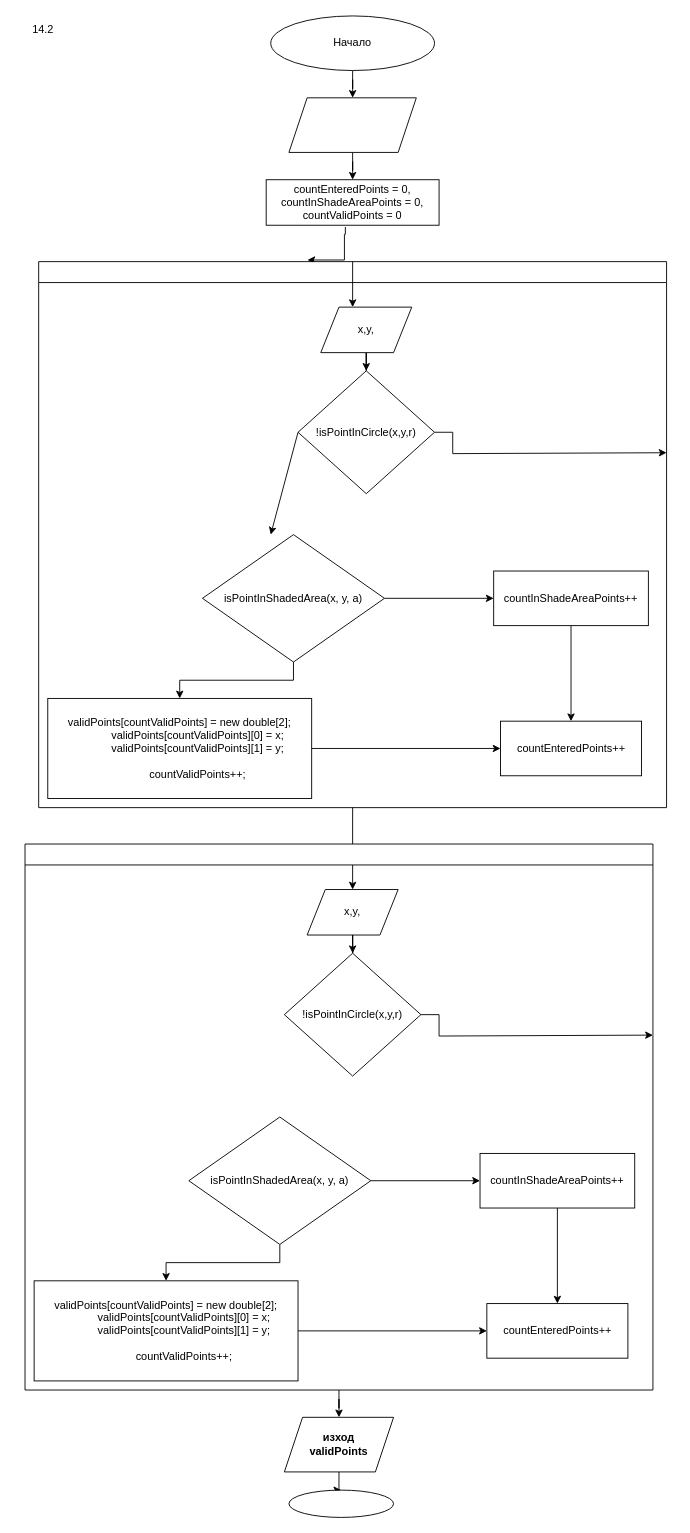
Image size: 690x1533. Some labels were removed from this diagram. Each missing label, with the box of its shape:
countEnteredPoints <= M: (38, 261, 667, 808)
countInShadeAreaPoints != N: (24, 843, 653, 1390)
M,N,r,a, validPoints(M,2): (288, 97, 416, 152)
край: (288, 1489, 394, 1517)
